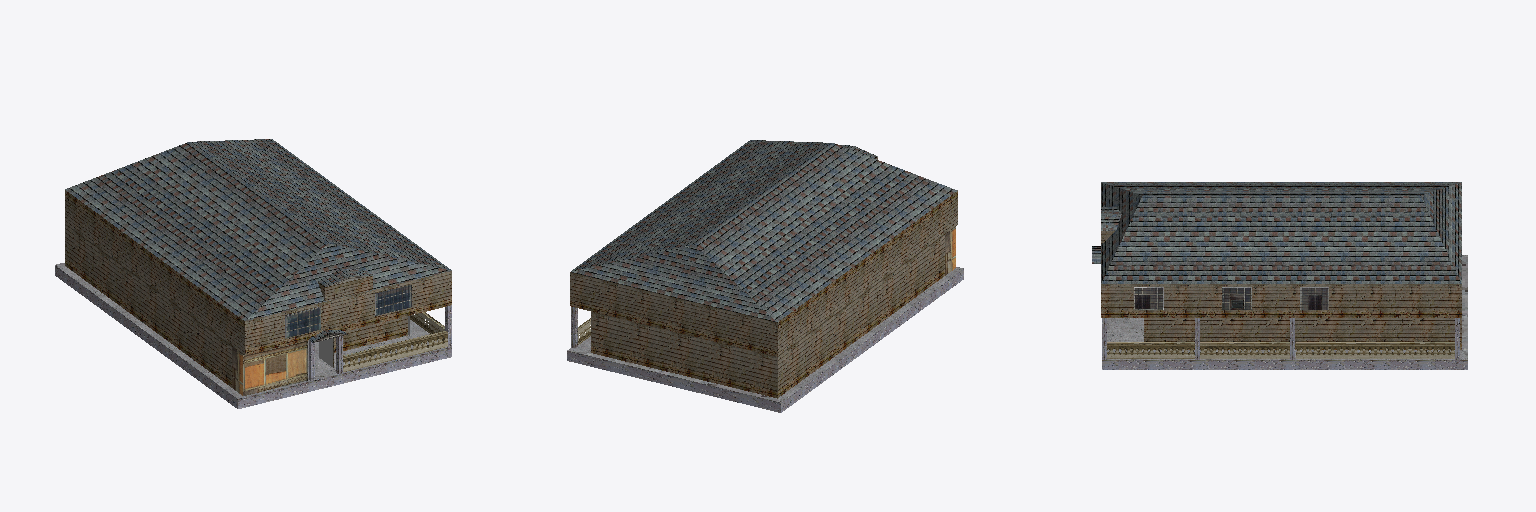
The picture shows the model from 3 angles: view 1: azimuth 30°, elevation 25°; view 2: azimuth 150°, elevation 25°; view 3: azimuth 270°, elevation 25°; orthographic projection.
Parts seen in each view (by area): view 1: base_casa.003_Plane.018; view 2: base_casa.003_Plane.018; view 3: base_casa.003_Plane.018.
Boxes of the visible parts, box(x1,y1,x2,y2) form: base_casa.003_Plane.018: box(55, 139, 451, 408); base_casa.003_Plane.018: box(567, 140, 963, 412); base_casa.003_Plane.018: box(1092, 182, 1467, 369).
Bounding box in the file's own units: 5.38 × 2.97 × 8.18.
16 materials, 8 textured.